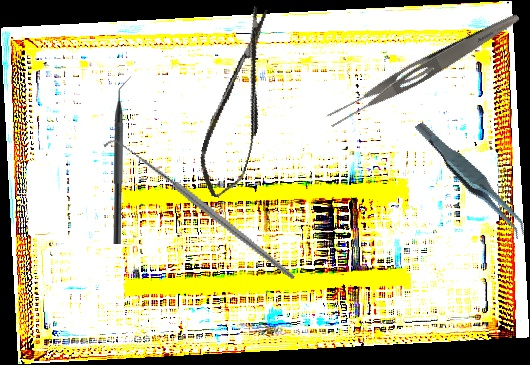Chopper: (113, 76, 133, 244)
Dressing Forceps: (323, 3, 523, 133)
Hook Surgical: (102, 93, 298, 328)
Micro Scissor: (190, 3, 290, 203)
Tissue Forceps: (413, 104, 530, 255)
